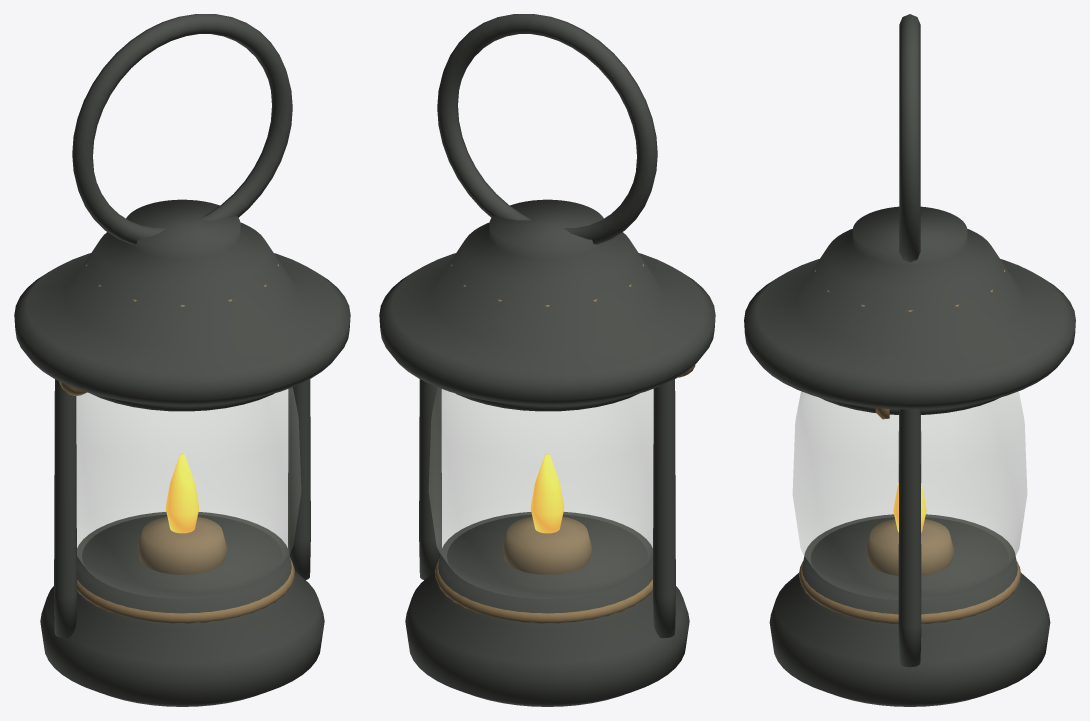
File: hr-prop-storm-lantern-lod0.glb
3 renders of one model, left to right at view 1: azimuth 30°, elevation 25°; view 2: azimuth 150°, elevation 25°; view 3: azimuth 270°, elevation 25°, orthographic.
Visible parts, largest first — view 1: rolled-foot, glass-chimney, burner-collar, wick-flame; view 2: rolled-foot, glass-chimney, burner-collar, wick-flame; view 3: rolled-foot, glass-chimney, burner-collar.
Boxes of the visible parts, x1,y1,x2,y2 form: rolled-foot: [14, 14, 350, 706]; glass-chimney: [76, 387, 300, 598]; burner-collar: [59, 264, 294, 623]; wick-flame: [165, 454, 199, 533]; rolled-foot: [379, 14, 715, 706]; glass-chimney: [429, 387, 653, 598]; burner-collar: [435, 264, 695, 623]; wick-flame: [530, 454, 564, 533]; rolled-foot: [744, 14, 1075, 706]; glass-chimney: [793, 391, 1026, 599]; burner-collar: [798, 269, 1021, 623].
Bounding box in the file's own units: 0.376 × 0.796 × 0.376.
